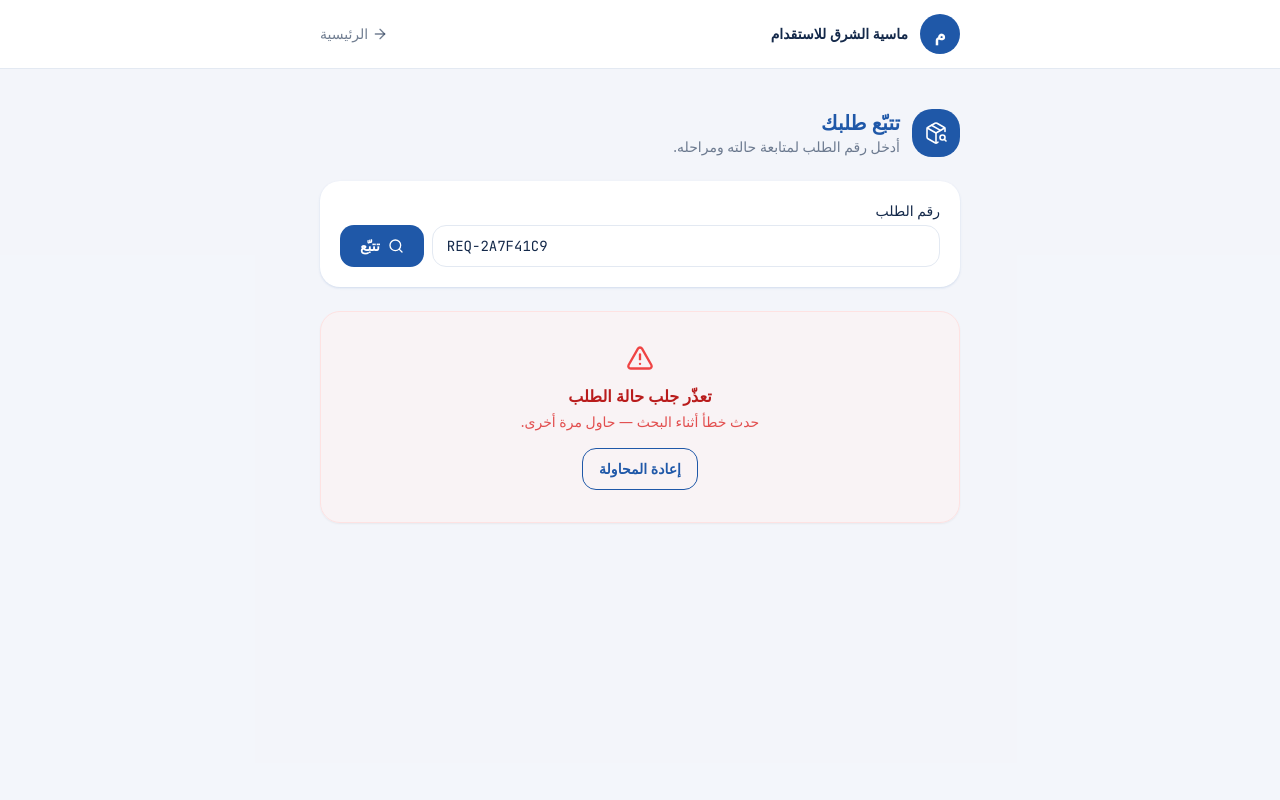
Test case: صفحة التتبّع › تعرض حالة خطأ قابلة لإعادة المحاولة عند فشل الجلب
The image size is (1280, 800).
Expected: the text "تعذّر جلب حالة الطلب" is shown, [568,385,712,407]
Step 1. Click the button "إعادة المحاولة" → [640, 469], box [582,448,698,490]
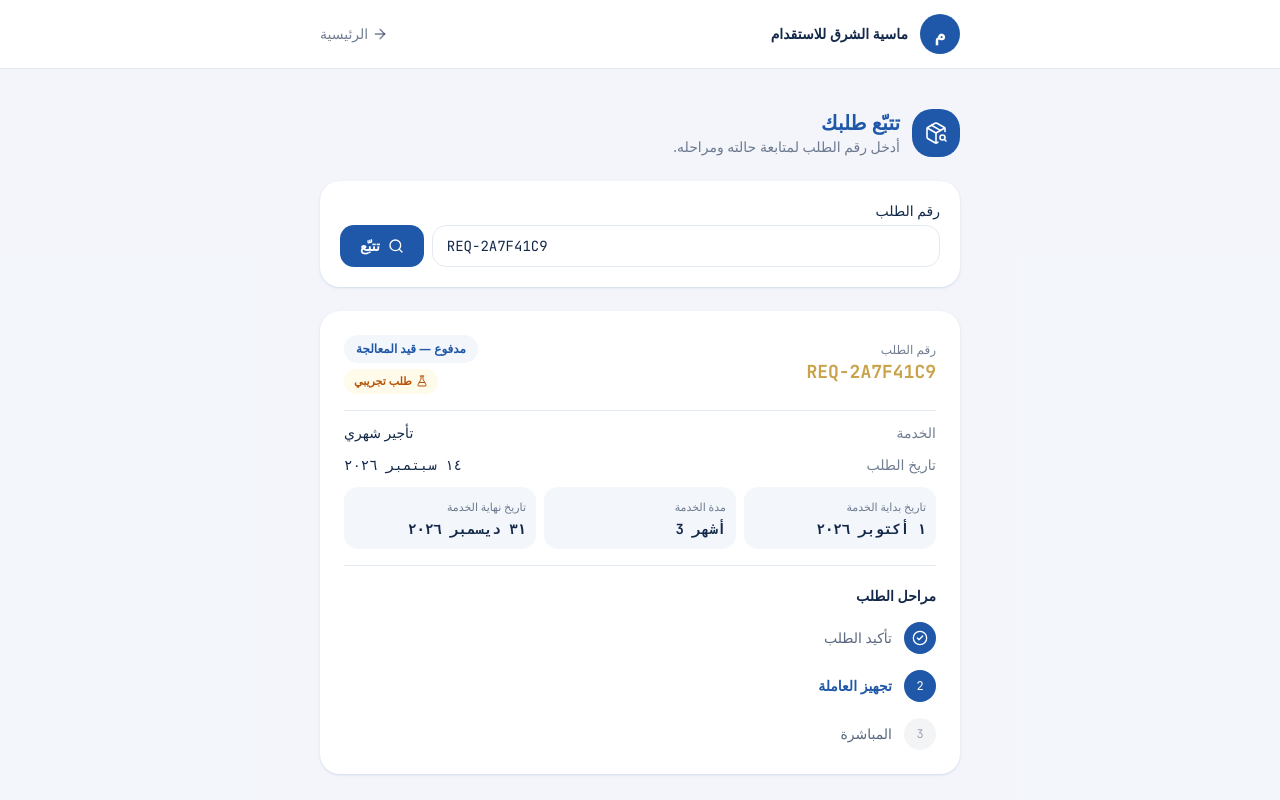
Expected: the text "REQ-2A7F41C9" is shown, [806,358,936,386]
